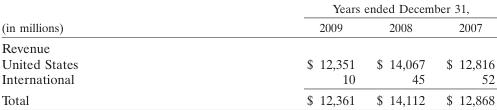table: (0, 0, 493, 107)
table column: (0, 0, 191, 107), (191, 0, 365, 107), (365, 0, 434, 107), (434, 0, 493, 107)
table column header: (0, 0, 493, 36)
table projected row header: (0, 36, 493, 55)
table row: (0, 17, 493, 36), (0, 36, 493, 55), (0, 88, 493, 107), (0, 70, 493, 88), (0, 0, 493, 17), (0, 55, 493, 70)
table spanning cell: (0, 0, 191, 36), (191, 0, 493, 17)
